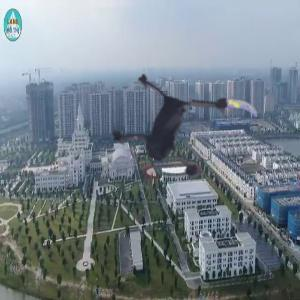drone: (94, 53, 266, 225)
